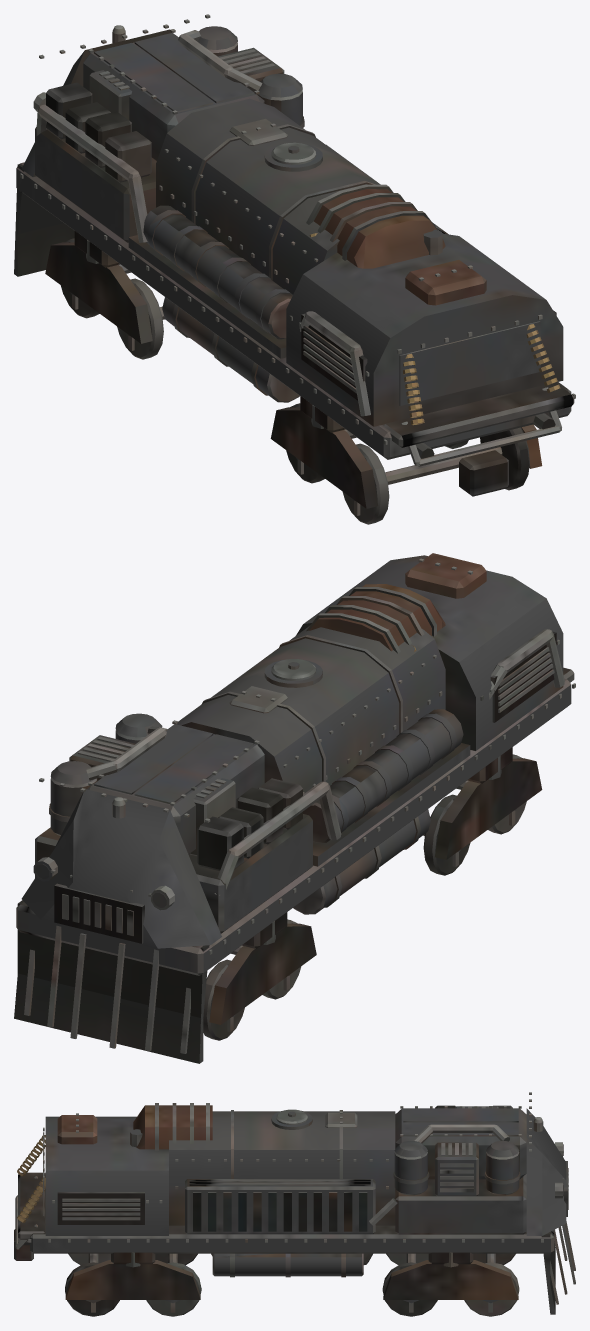
File: locomotive.glb
3 renders of one model, top to bottom at view 1: azimuth 30°, elevation 25°; view 2: azimuth 150°, elevation 25°; view 3: azimuth 270°, elevation 25°, orthographic. The views are drawn at different scales.
Parts seen in each view (by area): view 1: body, anim_wheel_rail, anim_wheel_rail.002, anim_wheel_rail.001; view 2: body, anim_wheel_rail.001, anim_wheel_rail.003; view 3: body, anim_wheel_rail.003, anim_wheel_rail.001, anim_wheel_rail.002, anim_wheel_rail.
Boxes of the visible parts, x1,y1,x2,y2 form: body: (14,14,575,508); anim_wheel_rail: (342,427,529,524); anim_wheel_rail.002: (117,278,164,359); anim_wheel_rail.001: (286,403,468,483); body: (14,553,575,1063); anim_wheel_rail.001: (423,794,470,875); anim_wheel_rail.003: (203,959,244,1040); body: (14,1092,575,1314); anim_wheel_rail.003: (464,1253,519,1316); anim_wheel_rail.001: (146,1253,201,1316); anim_wheel_rail.002: (382,1253,437,1316); anim_wheel_rail: (65,1253,119,1316).
Size of the model in its own units: 2.07 by 2.5 by 7.07.
2 materials, 2 textured.
